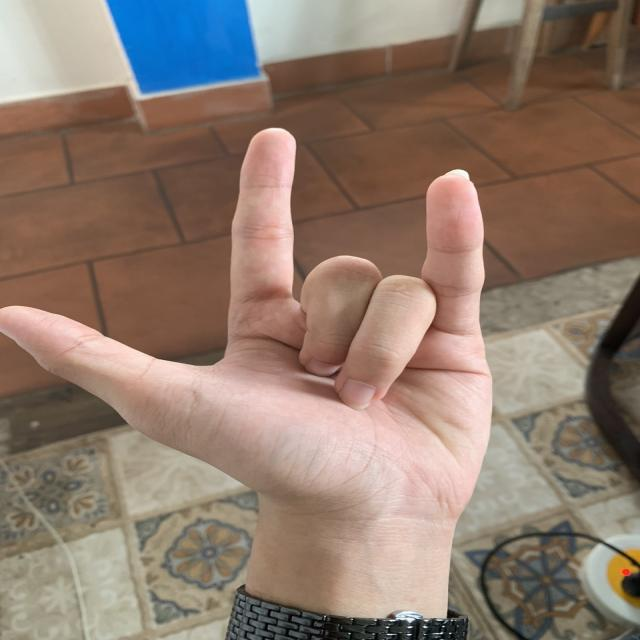love: (0, 82, 524, 524)
